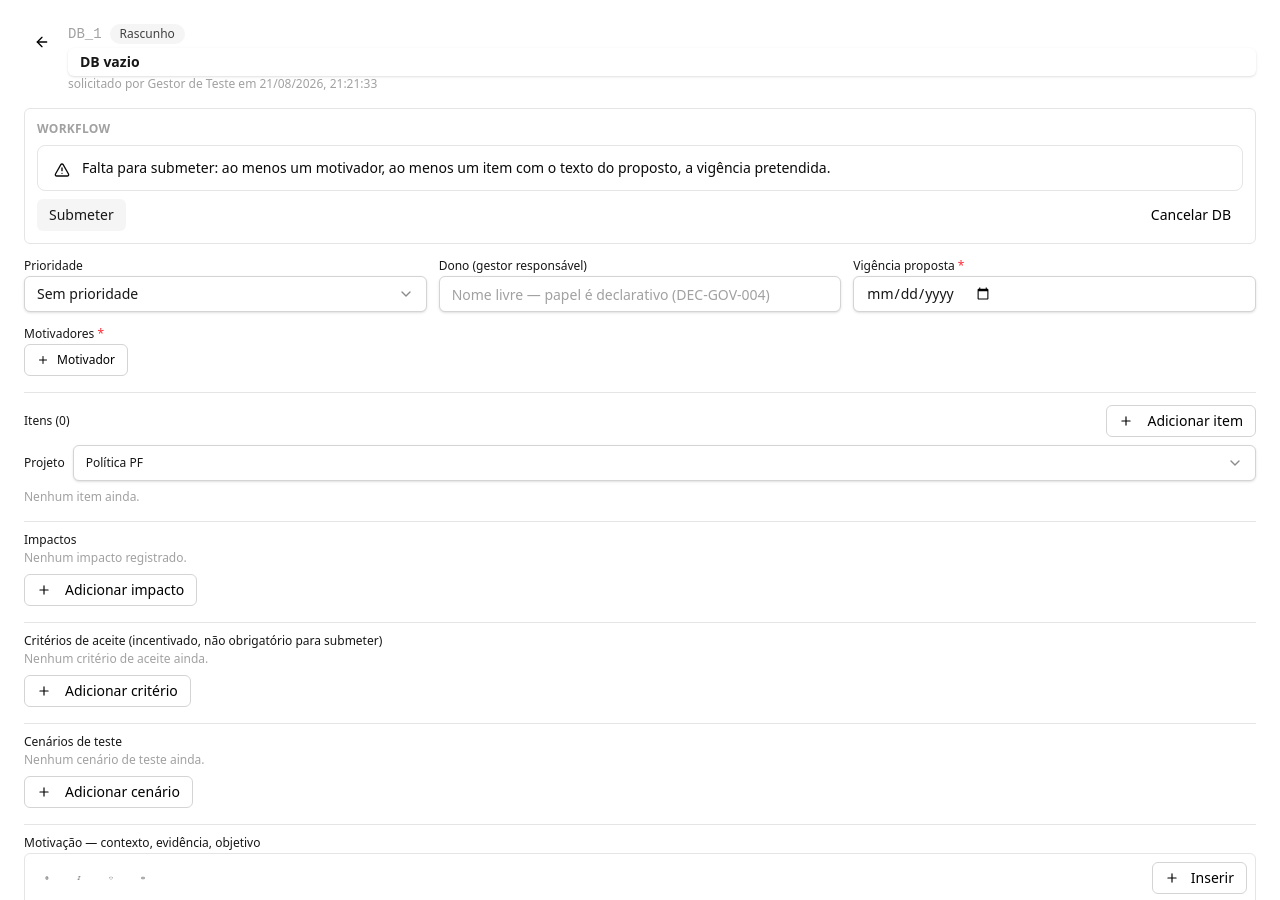
ChangeRequestDetail — submissão (RN-GOV-03) › lista o que falta e recusa submeter um DB vazio
Expected: the text "Falta para submeter: ao menos um motivador, ao menos um item com o texto do proposto, a vigência pretendida." is shown, [82,158,830,177]
Click the button "Submeter": (81, 215) [37,199,126,231]
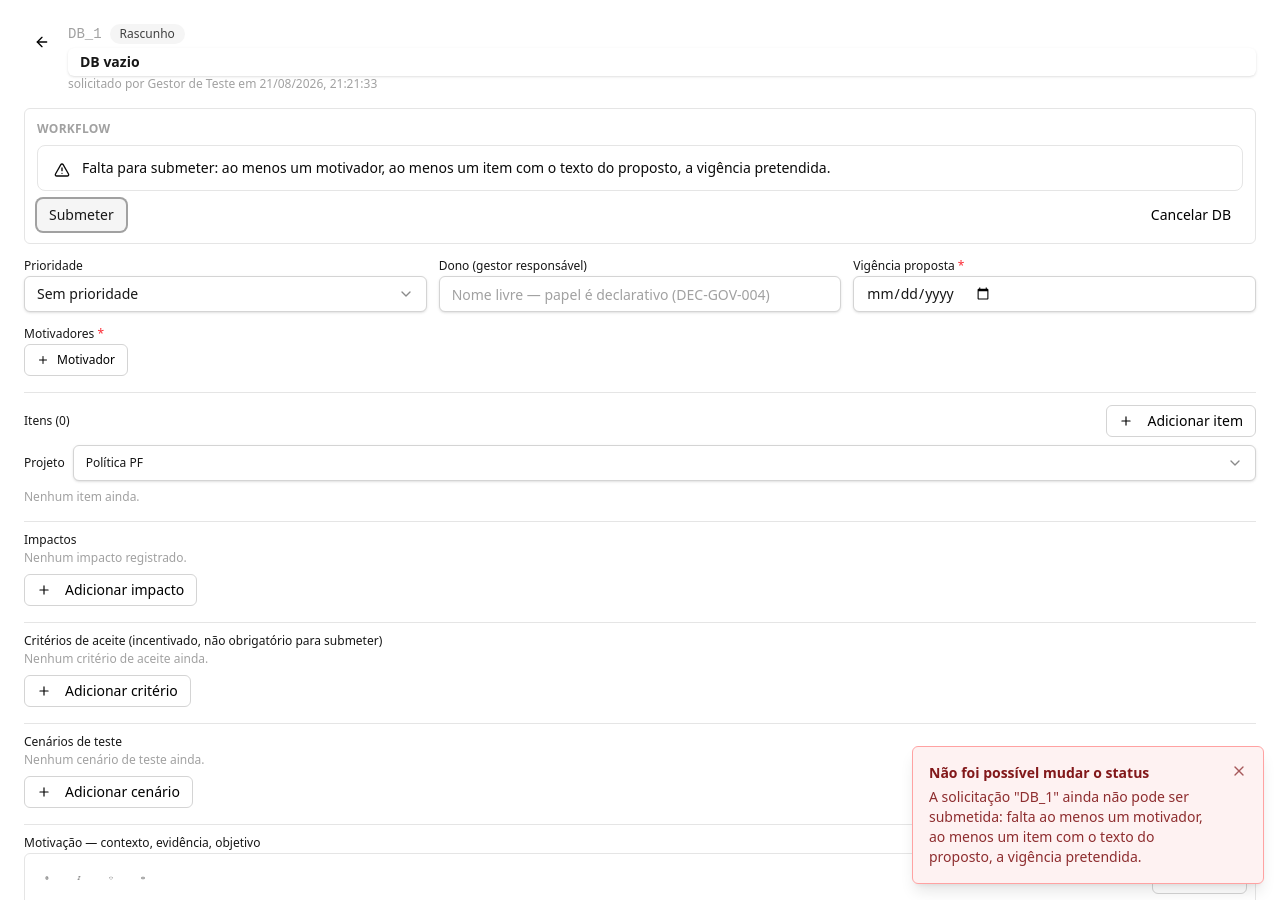
Result: the text "ainda não pode ser submetida" is shown at [929,787,1203,866]
